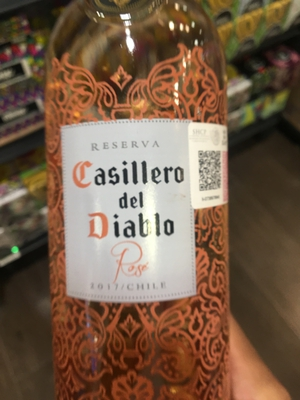casillero del diablo rose: (36, 2, 232, 400)
